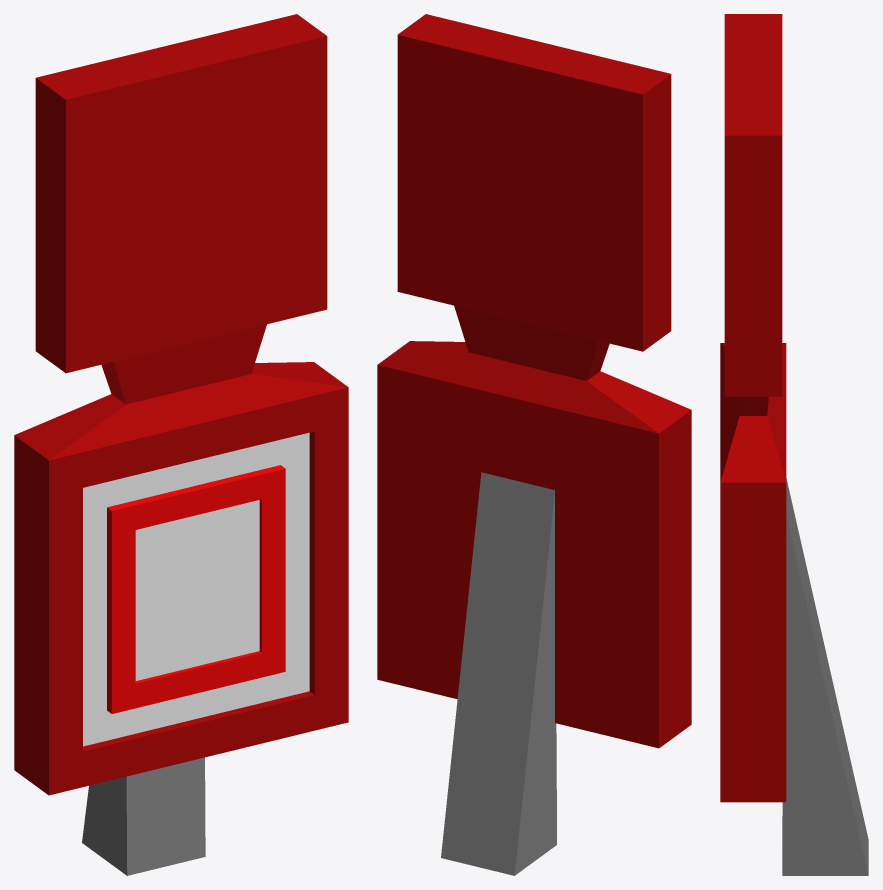
File: Target.fbx
3 views of the same model, side by side, from view 1: azimuth 30°, elevation 25°; view 2: azimuth 150°, elevation 25°; view 3: azimuth 270°, elevation 25° (orthographic). The views are drawn at different scales.
Visible parts, largest first — view 1: Target; view 2: Target; view 3: Target.
Boxes of the visible parts, <box> form: Target: <box>14,14,348,875</box>; Target: <box>377,14,691,875</box>; Target: <box>720,14,868,875</box>.
Bounding box in the file's own units: 229 × 600 × 103.
Materials: 1 (1 with a texture image).
